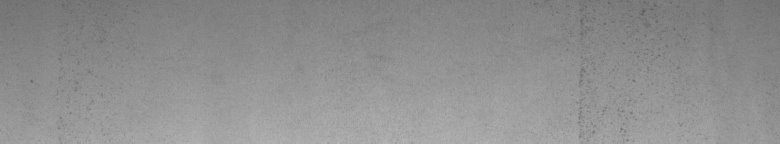ib: (579, 4, 656, 119)
